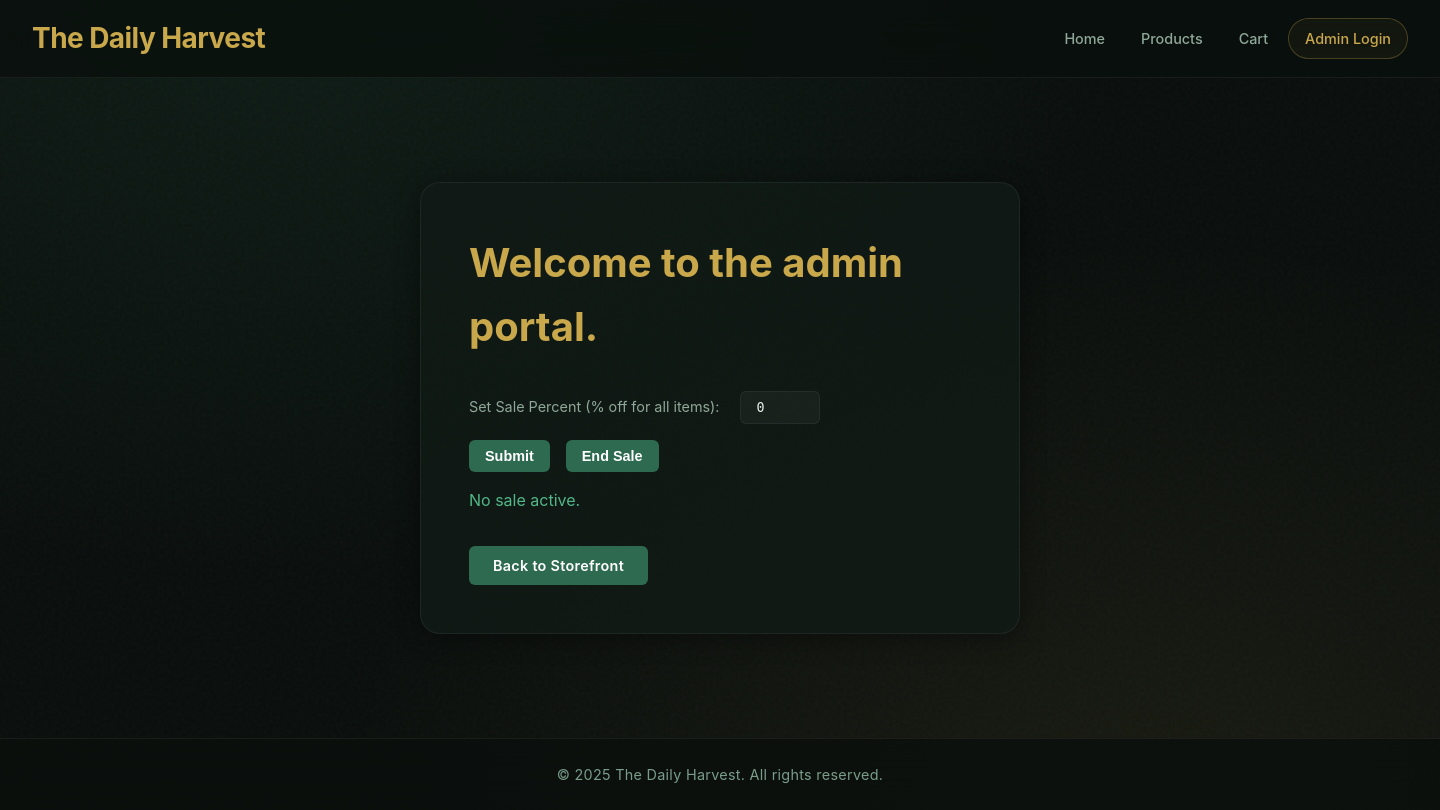
it: AdminPage › resets sale on End Sale button
# Set a sale first
Replace the text in the field labelled "Set Sale Percent (% off for all items):" with "15" at (780, 408), box 740,391 -> 820,424
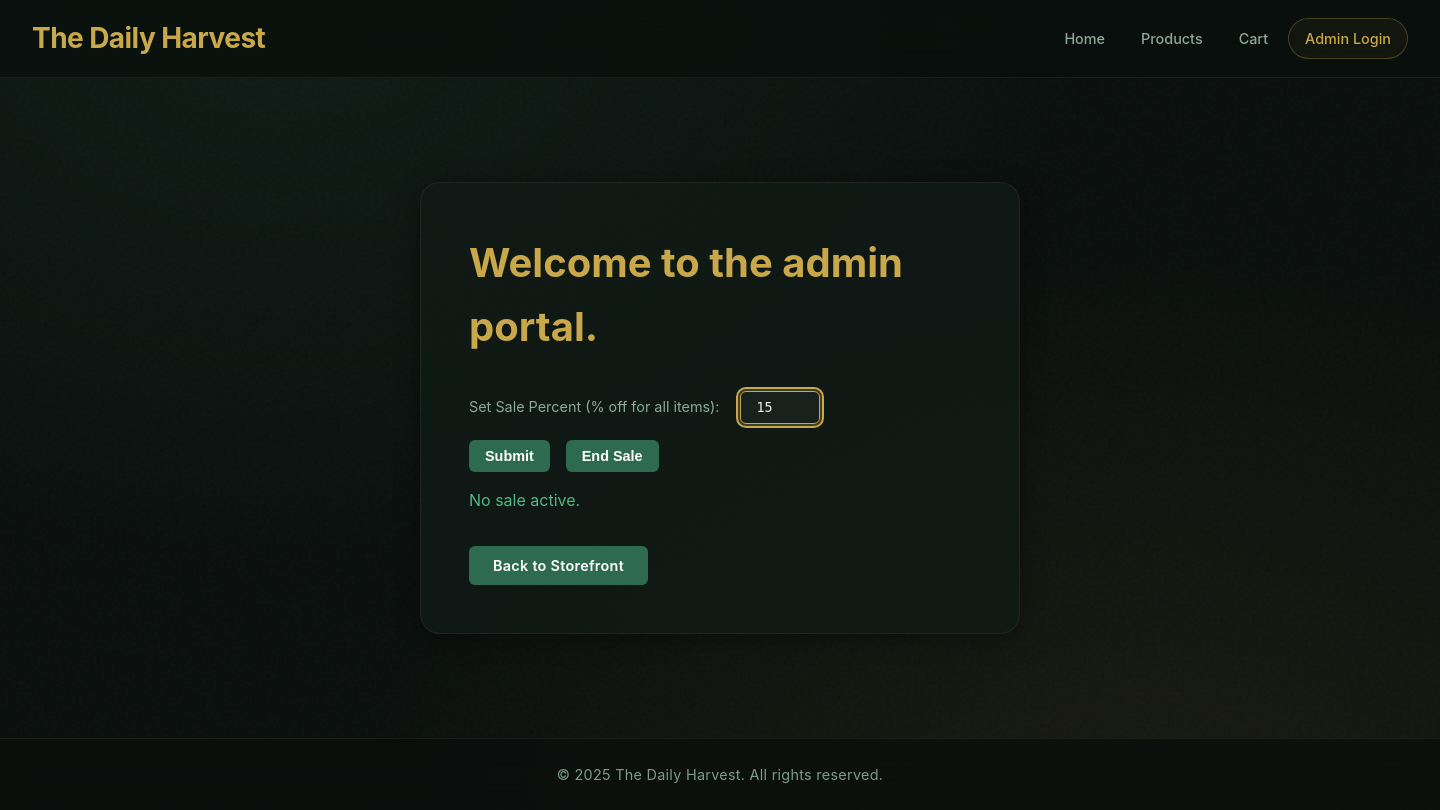
Click the button "Submit" at (509, 456), box 469,440 -> 550,472
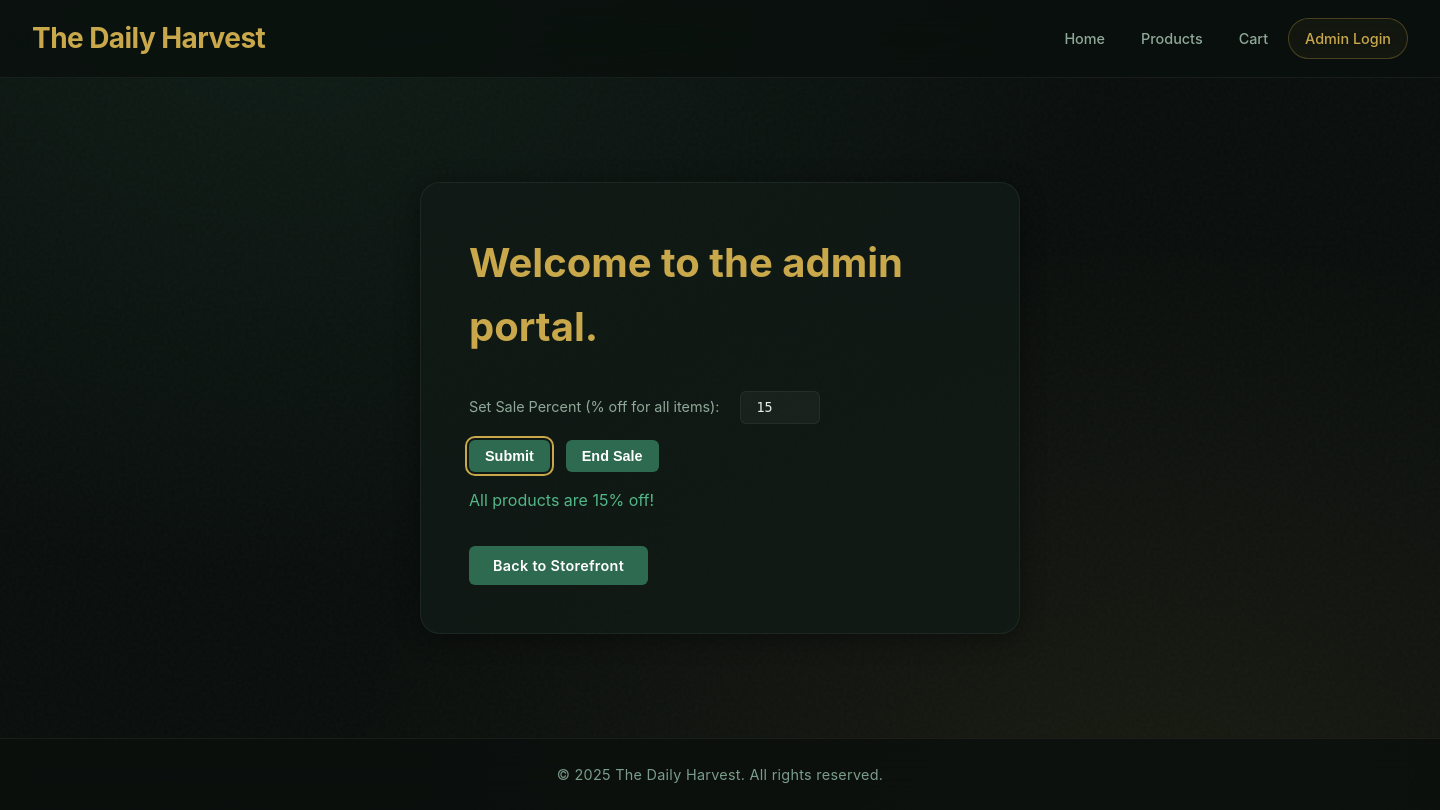
Expected: the text "All products are 15% off!" is shown, 469,490 -> 654,510
# End the sale
Click the button "End Sale" at (612, 456), box 566,440 -> 659,472
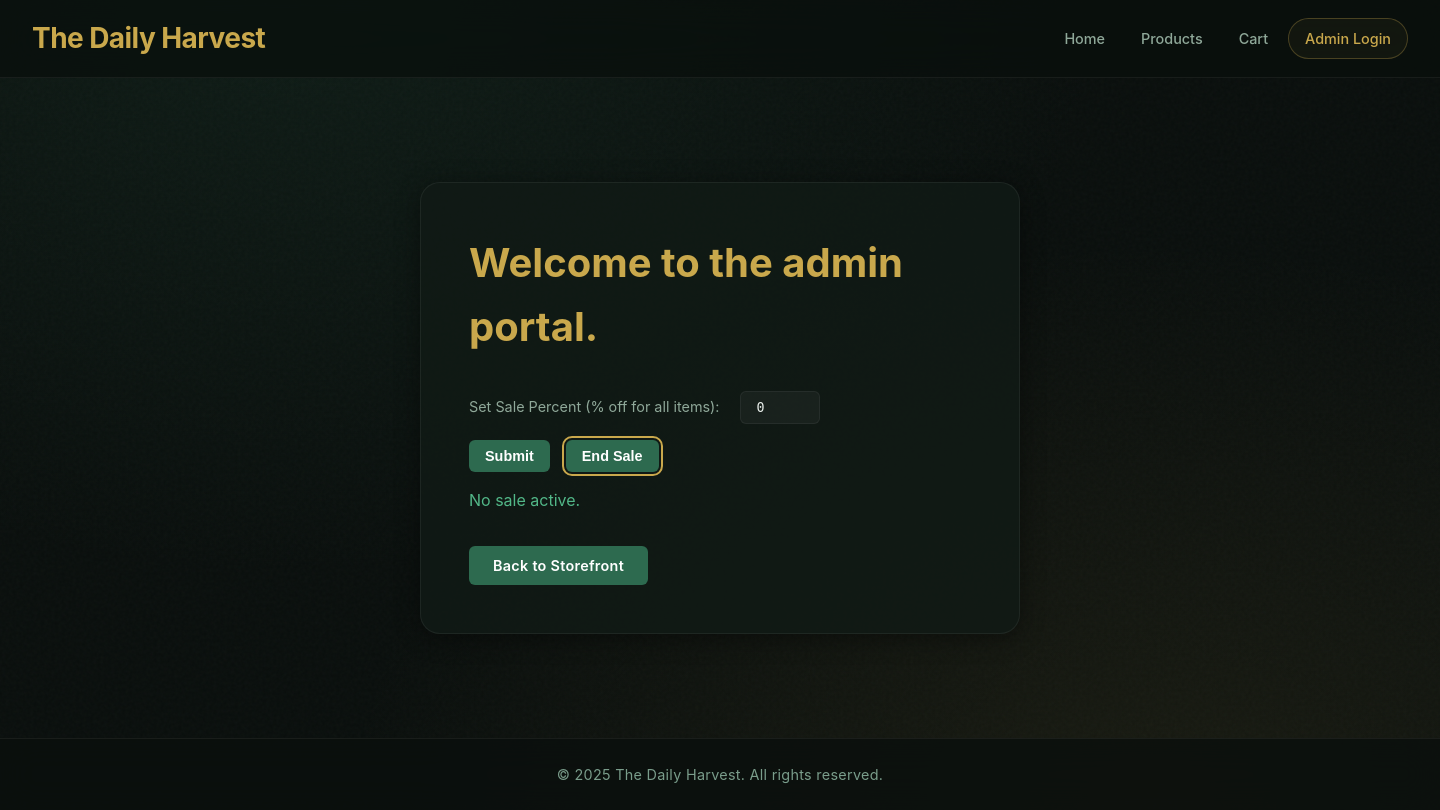
Expected: the text "No sale active." is shown, 469,490 -> 580,510
Expected: the field labelled "Set Sale Percent (% off for all items):" holds "0", 740,391 -> 820,424
